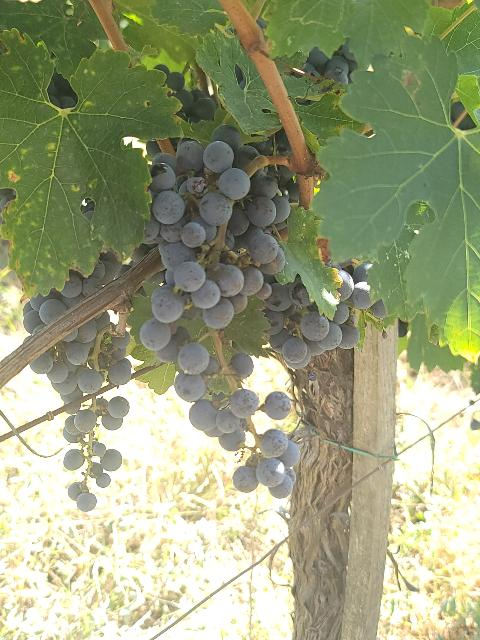grapes: (139, 285, 300, 499), (150, 125, 294, 320), (139, 286, 260, 451), (30, 316, 131, 511), (260, 262, 388, 370)
